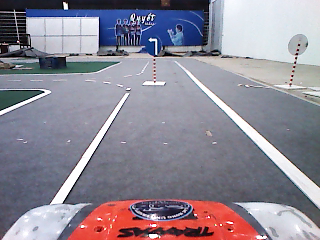turn: (145, 35, 163, 56)
